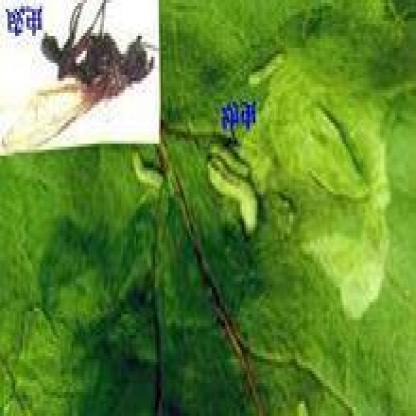whorl-maggot: (196, 126, 264, 236), (247, 44, 298, 94), (128, 147, 168, 196)
